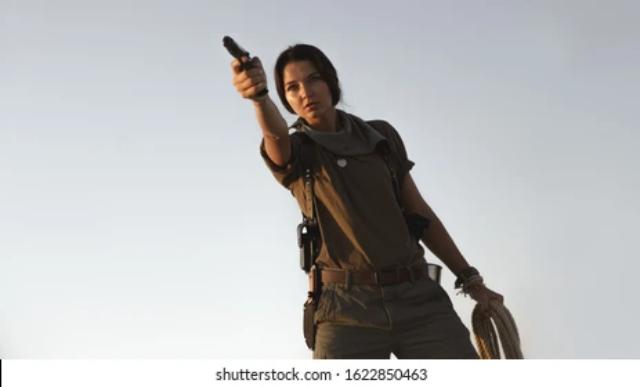other: (262, 41, 414, 352)
